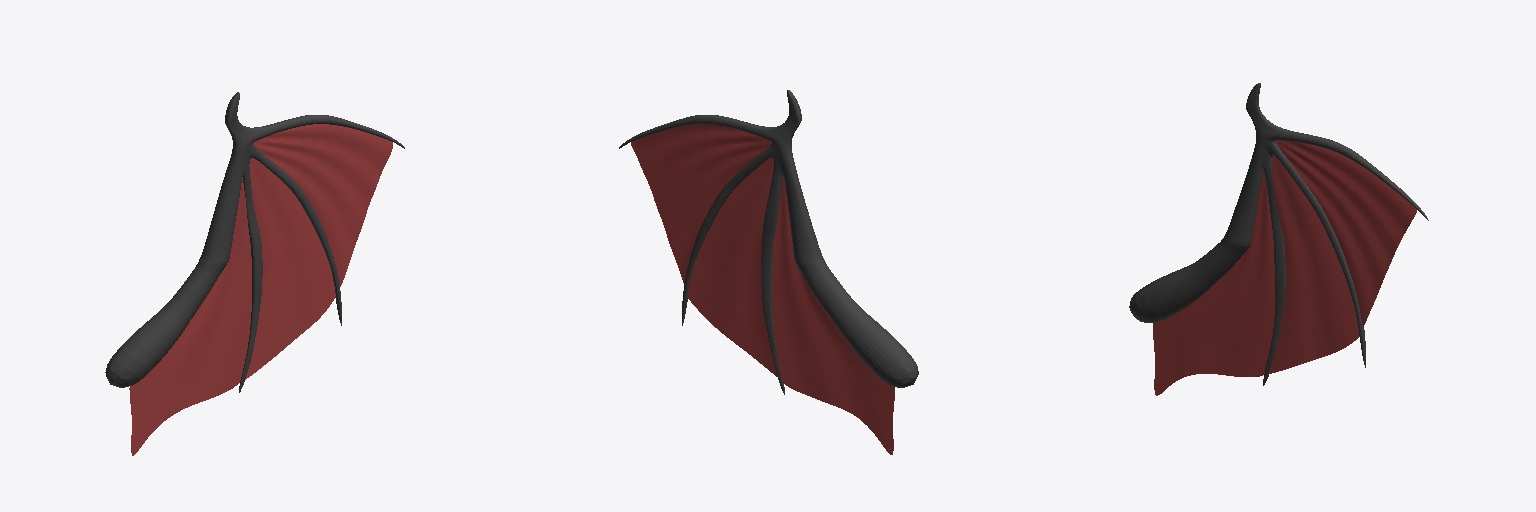
3 renders of one model, left to right at view 1: azimuth 30°, elevation 25°; view 2: azimuth 150°, elevation 25°; view 3: azimuth 330°, elevation 25°, orthographic.
Visible parts, largest first — view 1: 右翼; view 2: 右翼; view 3: 右翼.
Boxes of the visible parts, box(x1,y1,x2,y2) form: 右翼: box(105, 92, 404, 455); 右翼: box(619, 90, 918, 454); 右翼: box(1129, 83, 1428, 395).
Size of the model in its own units: 2.08 by 2.26 by 0.2166.
Materials: 1 (1 with a texture image).